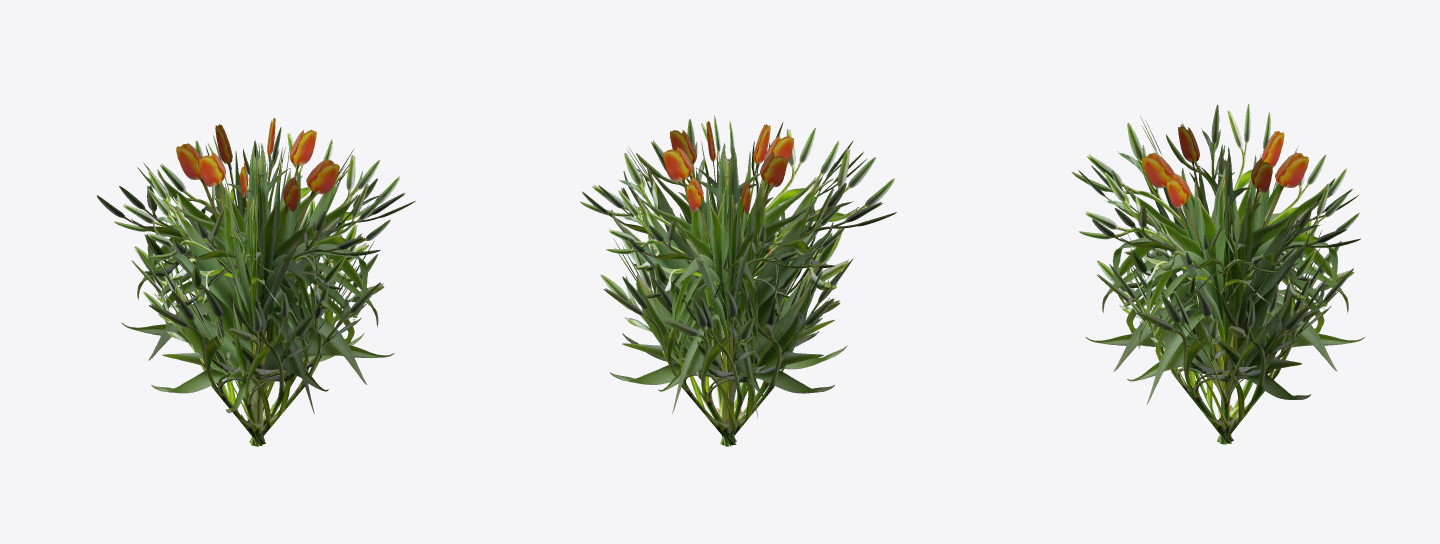
File: flower_tulips.glb
3 views of the same model, side by side, from view 1: azimuth 30°, elevation 25°; view 2: azimuth 150°, elevation 25°; view 3: azimuth 270°, elevation 25° (orthographic).
Parts seen in each view (by area): view 1: flower_tulips; view 2: flower_tulips; view 3: flower_tulips.
Part boxes in pixels (x1,y1,x2,y2): flower_tulips: (97,118,415,446); flower_tulips: (580,115,896,446); flower_tulips: (1071,104,1364,444).
Size of the model in its own units: 0.703 by 0.62 by 0.6875.
2 materials, 2 textured.
